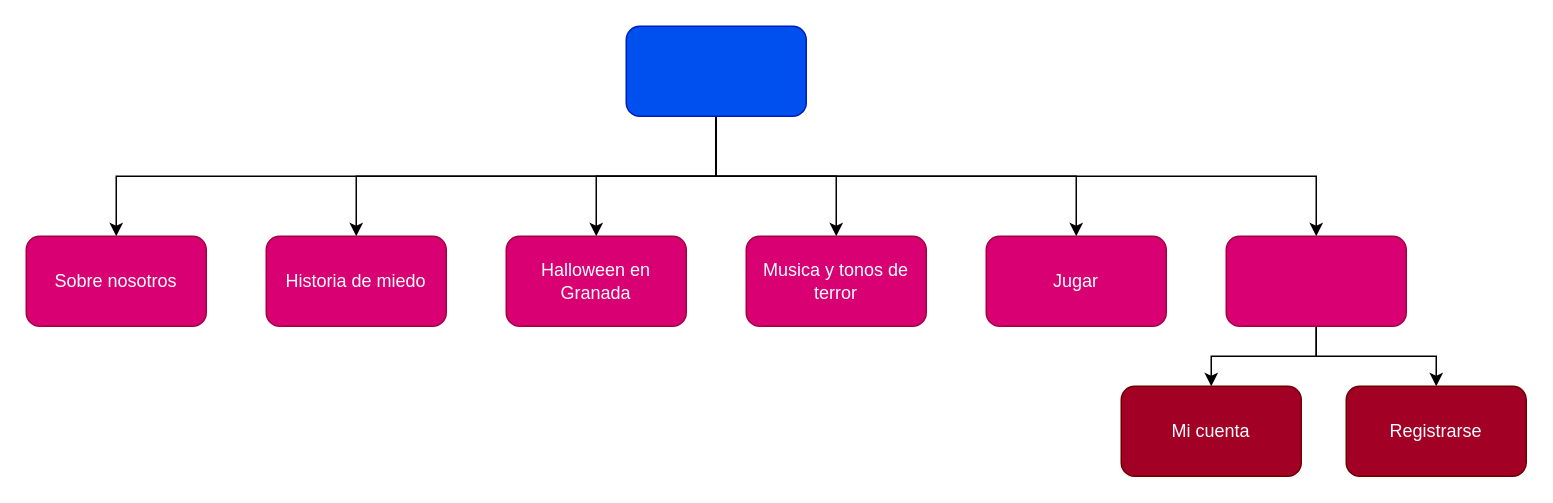
Some shapes in this 1553 by 503 pixel diagram are drawn without their labels. The box of each missing label's shape, as (x1, y1, x2, y2) in pixels:
Iniciar sesion: (1225, 235, 1406, 326)
Pagina principal: (625, 25, 806, 116)
